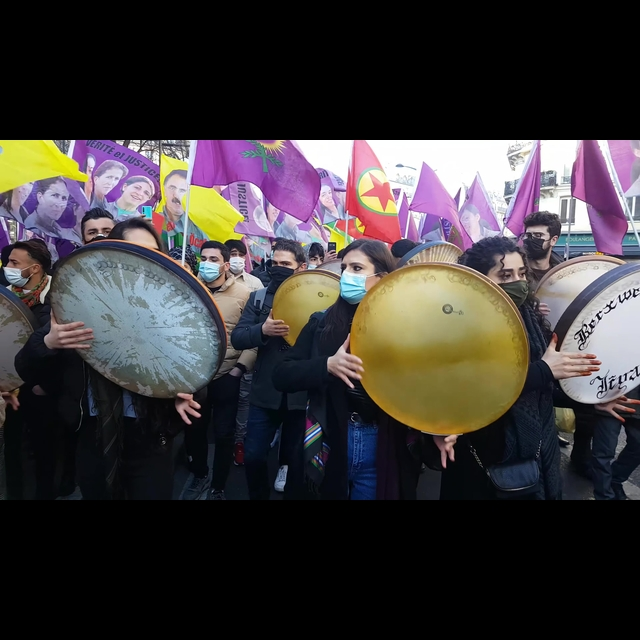APO: (162, 170, 194, 221)
PKK: (357, 156, 406, 220)
